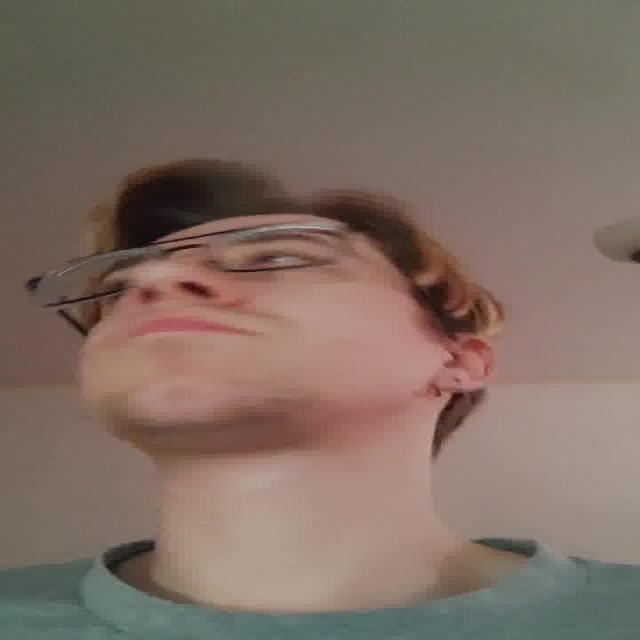earlobe: (430, 331, 502, 395)
